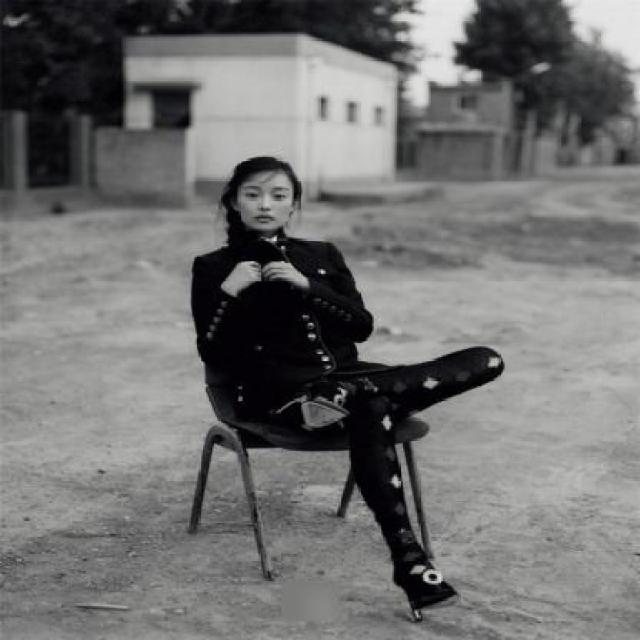Person: (121, 132, 524, 634)
